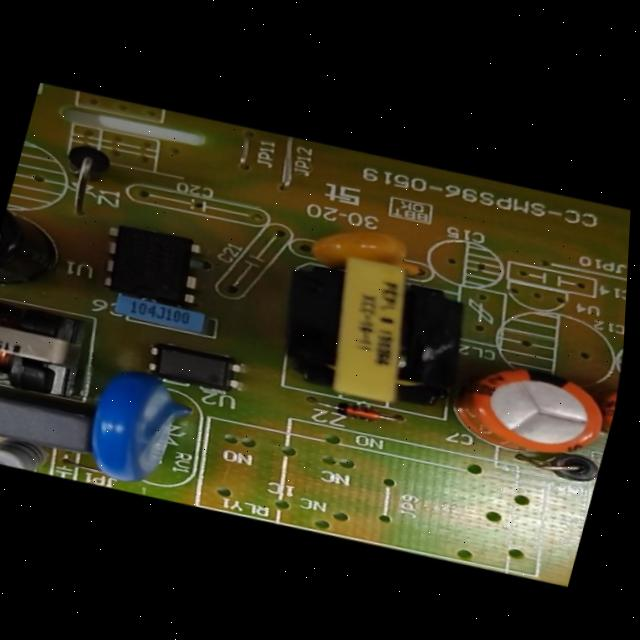Cap1: (450, 349, 619, 471)
Cap3: (0, 195, 78, 297)
MOSFET: (95, 217, 212, 313)
Mov: (70, 361, 202, 497)
Resistor: (0, 429, 52, 475)
Transformer: (265, 241, 486, 425), (0, 291, 87, 405)
